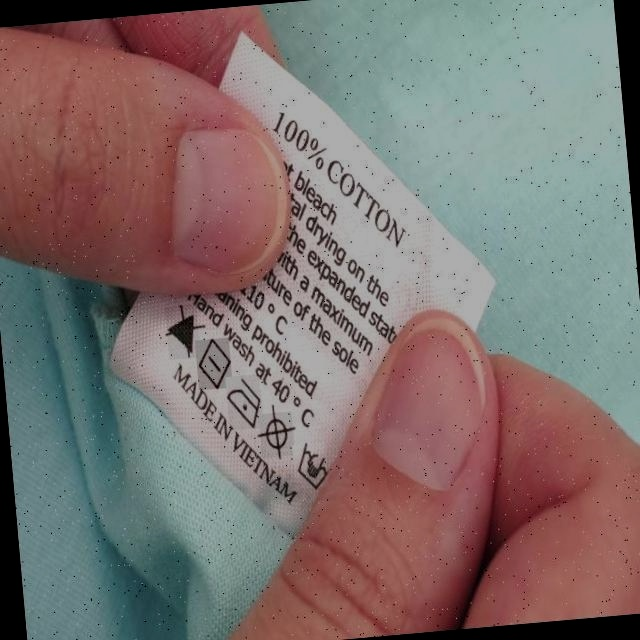DN_bleach: (161, 310, 205, 355)
DN_dry_clean: (259, 408, 296, 454)
dry_flat: (196, 340, 235, 390)
hand_wash: (296, 442, 338, 490)
iron_low: (227, 380, 265, 429)
